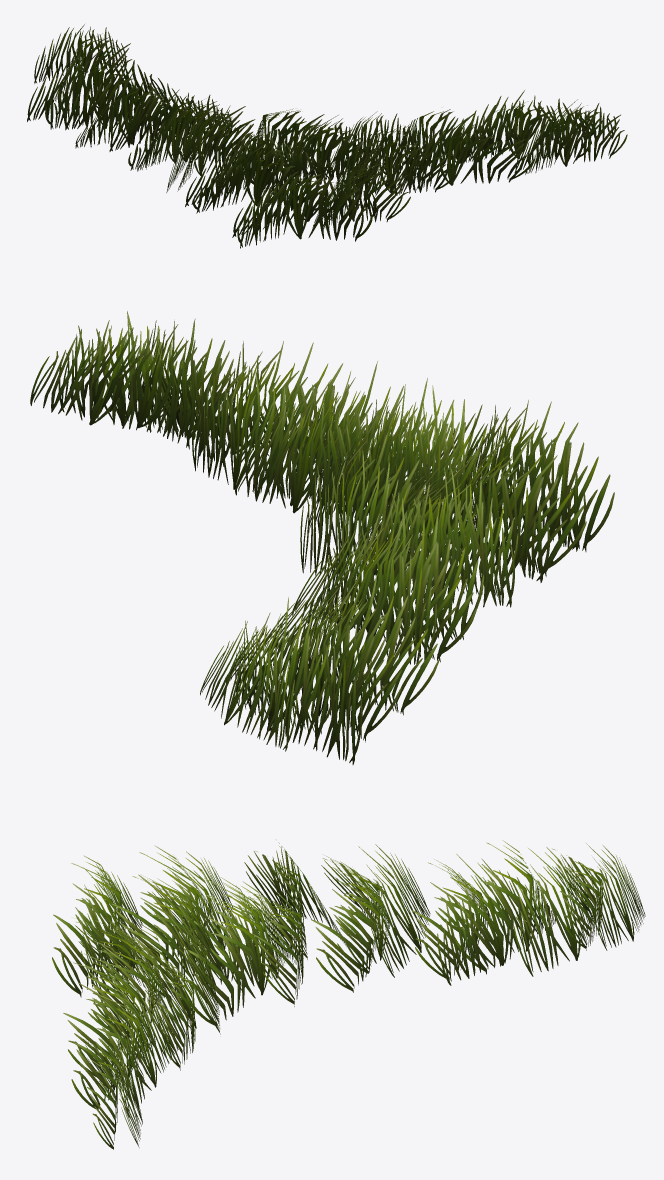
File: grassKit_front_corner_ur.fbx
3 renders of one model, top to bottom at view 1: azimuth 30°, elevation 25°; view 2: azimuth 150°, elevation 25°; view 3: azimuth 270°, elevation 25°, orthographic. The views are drawn at different scales.
Visible parts, largest first — view 1: grassKit_front_corner_ur; view 2: grassKit_front_corner_ur; view 3: grassKit_front_corner_ur.
Boxes of the visible parts, x1=… form: grassKit_front_corner_ur: x1=27, y1=24, x2=627, y2=248; grassKit_front_corner_ur: x1=30, y1=311, x2=614, y2=764; grassKit_front_corner_ur: x1=52, y1=840, x2=645, y2=1149.
Bounding box in the file's own units: 4.65 × 1.22 × 4.61.
